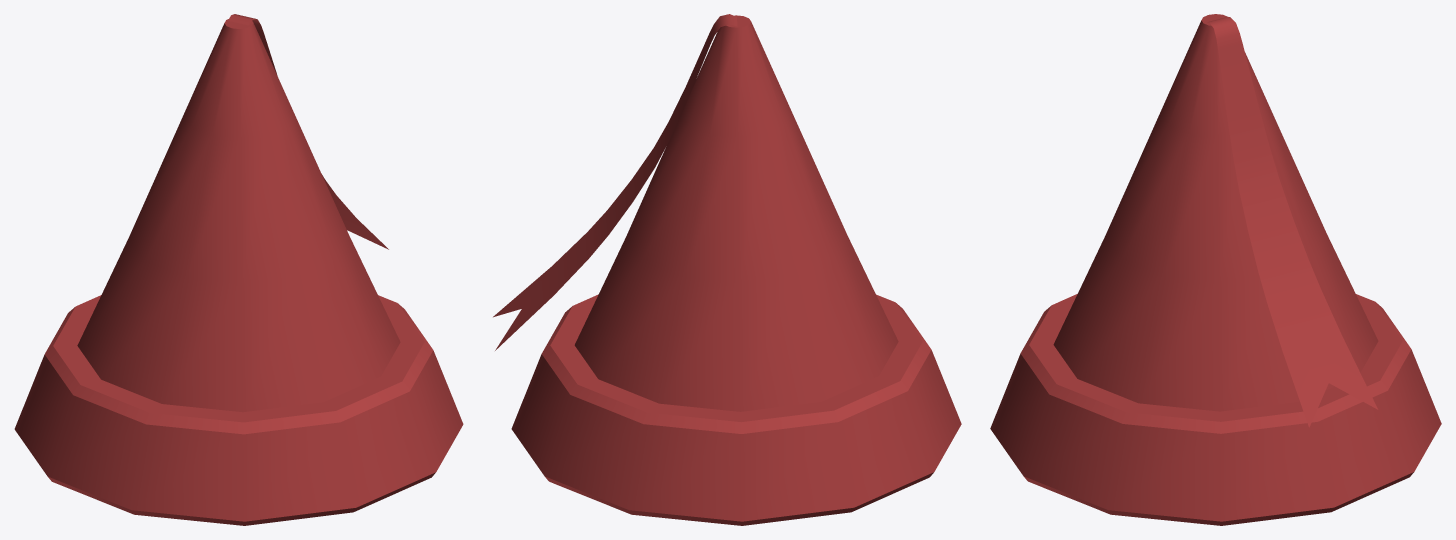
File: FairyHat_01.fbx
The picture shows the model from 3 angles, left to right: view 1: azimuth 30°, elevation 25°; view 2: azimuth 150°, elevation 25°; view 3: azimuth 270°, elevation 25°; orthographic projection.
Visible parts, largest first — view 1: FairyHat_01; view 2: FairyHat_01; view 3: FairyHat_01.
Part boxes in pixels (x1,y1,x2,y2): FairyHat_01: (14, 14, 463, 525); FairyHat_01: (493, 14, 961, 525); FairyHat_01: (990, 14, 1441, 525).
Size of the model in its own units: 61.62 by 62.08 by 61.17.
